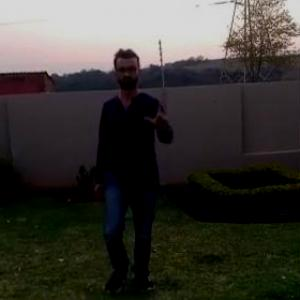land_hand: (139, 88, 172, 130)
